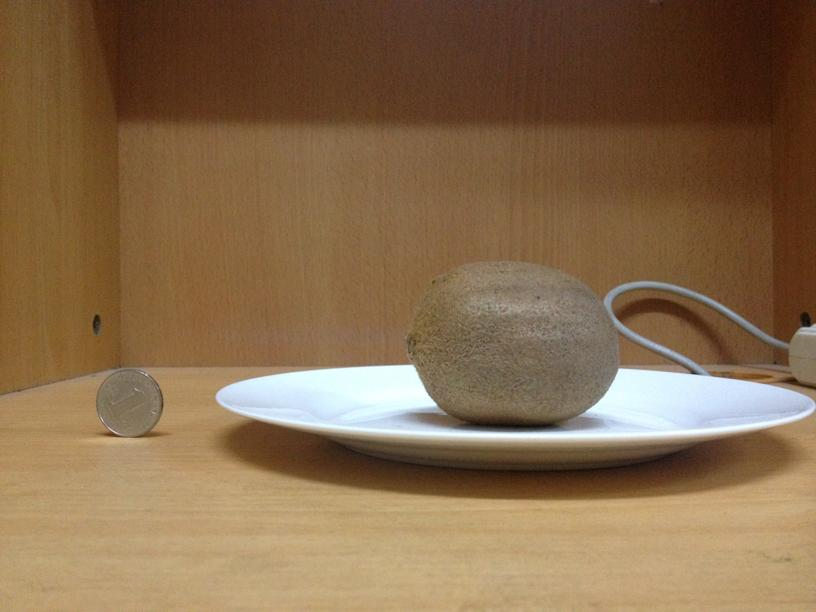coin: (91, 369, 163, 435)
qiwi: (403, 259, 621, 423)
